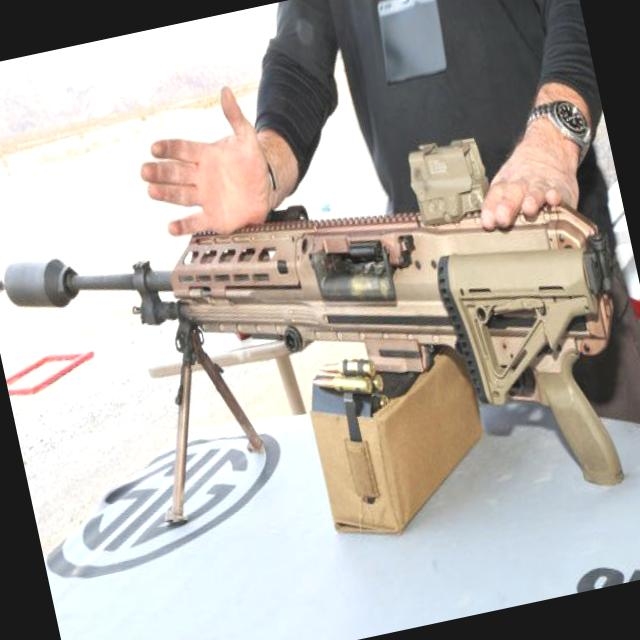long weapon: (0, 92, 639, 567)
